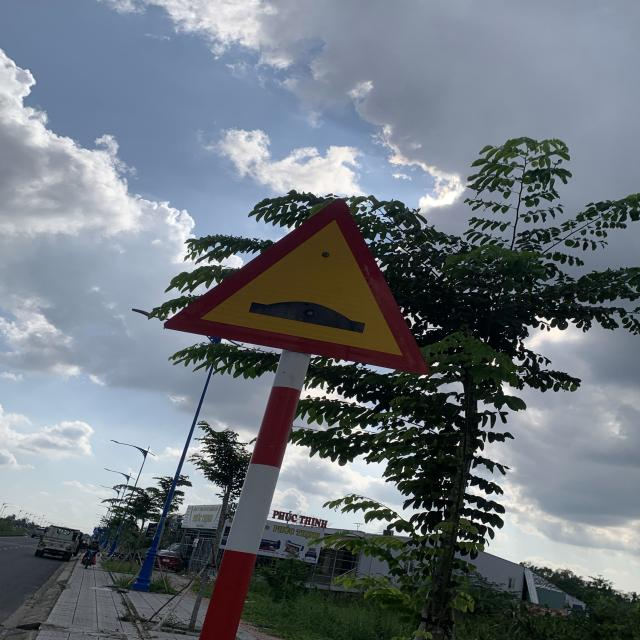Duong_Cong_Ben_Phai: (167, 199, 421, 375)
